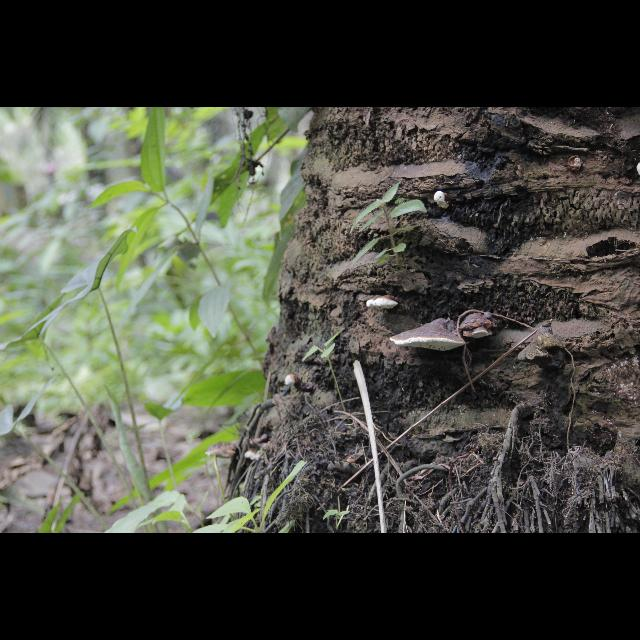ganoderma: (390, 319, 466, 353), (460, 313, 504, 340), (206, 440, 242, 460), (245, 443, 270, 463), (368, 297, 401, 312)
primordium: (435, 192, 452, 210), (285, 375, 302, 390)
